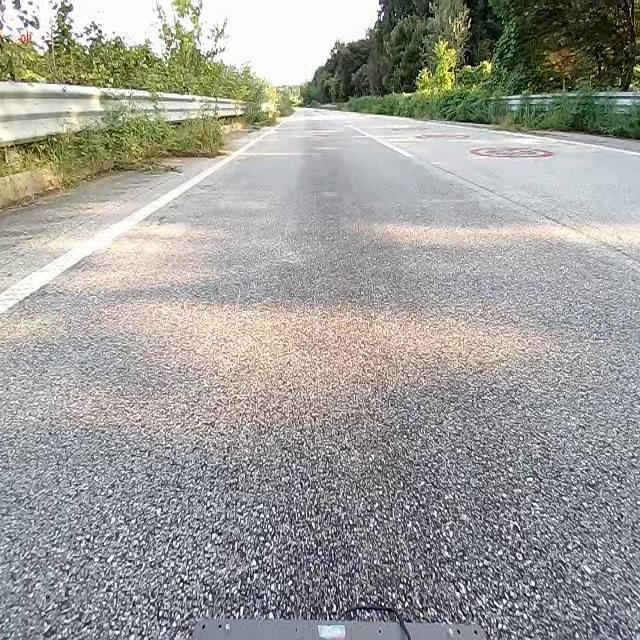Lane: (0, 120, 276, 316), (0, 126, 276, 314)
